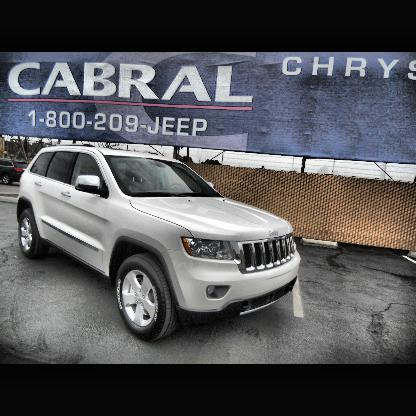Jeep Grand Cherokee SUV 2012: (17, 146, 303, 343)
